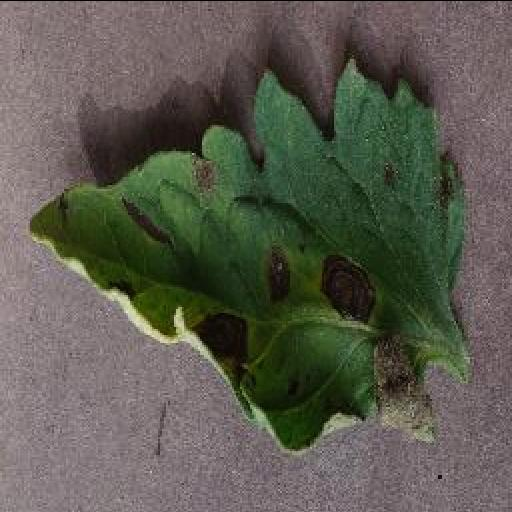disease_tomato: (22, 56, 480, 453)
